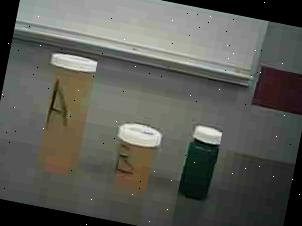Bottle A: (20, 44, 115, 184)
Bottle B: (106, 113, 170, 200)
Bottle C: (172, 120, 228, 216)
